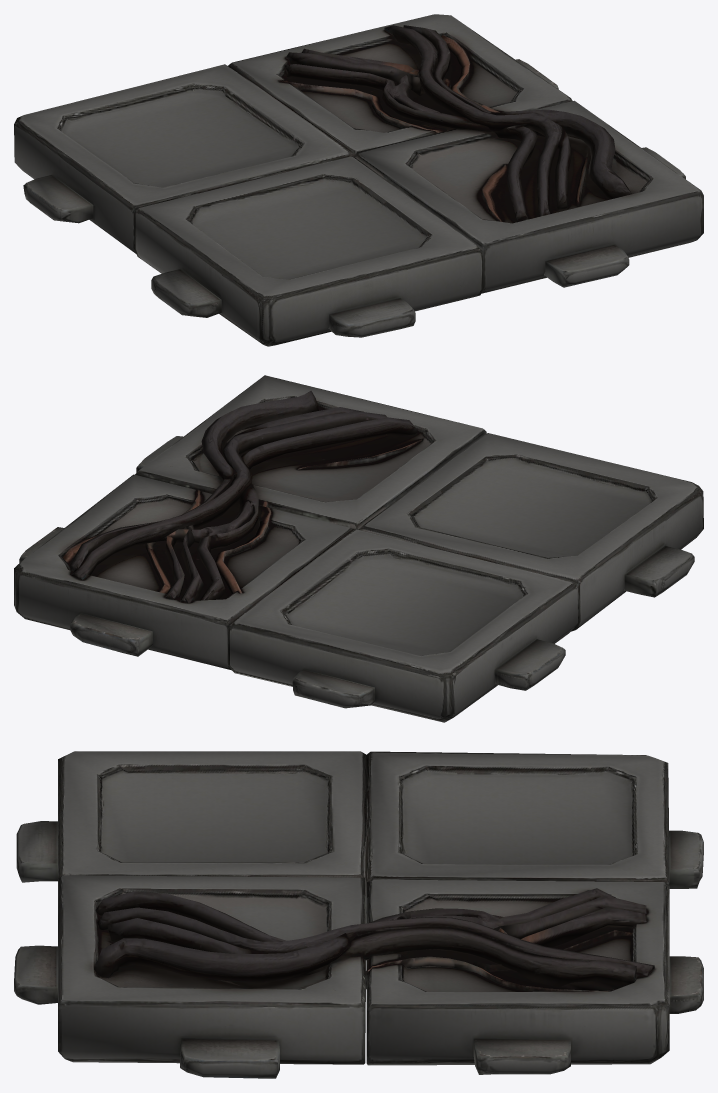
The model's file is tripo_convert_8faba419-8ac5-4143-bba4-053b43caab62.fbx.
3 views of the same model, one above another, from view 1: azimuth 30°, elevation 25°; view 2: azimuth 150°, elevation 25°; view 3: azimuth 270°, elevation 25° (orthographic). The views are drawn at different scales.
Visible parts, largest first — view 1: tripo_node_8faba419; view 2: tripo_node_8faba419; view 3: tripo_node_8faba419.
Boxes of the visible parts, left/top/right/bottom form: tripo_node_8faba419: left=14, top=14, right=703, bottom=346; tripo_node_8faba419: left=14, top=375, right=703, bottom=722; tripo_node_8faba419: left=14, top=751, right=703, bottom=1078.
Bounding box in the file's own units: 0.998 × 0.1543 × 0.9824.
1 material, 1 textured.
